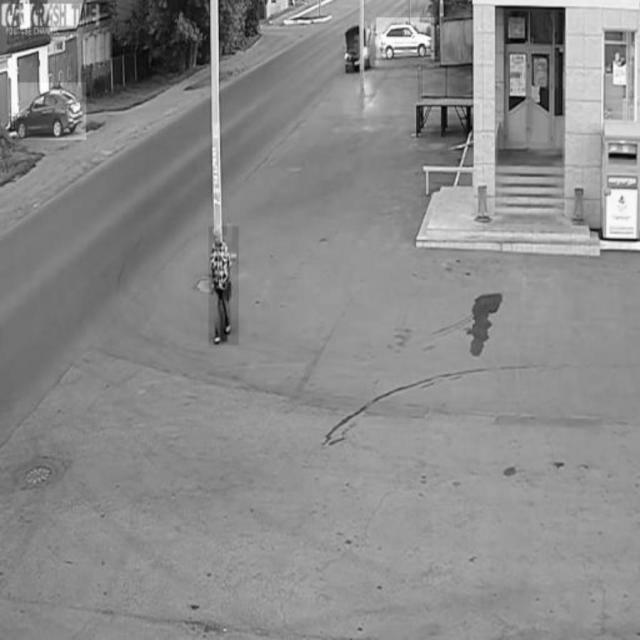person: (209, 227, 239, 345)
vehicle: (15, 83, 86, 140), (376, 18, 434, 59), (341, 28, 373, 73)
